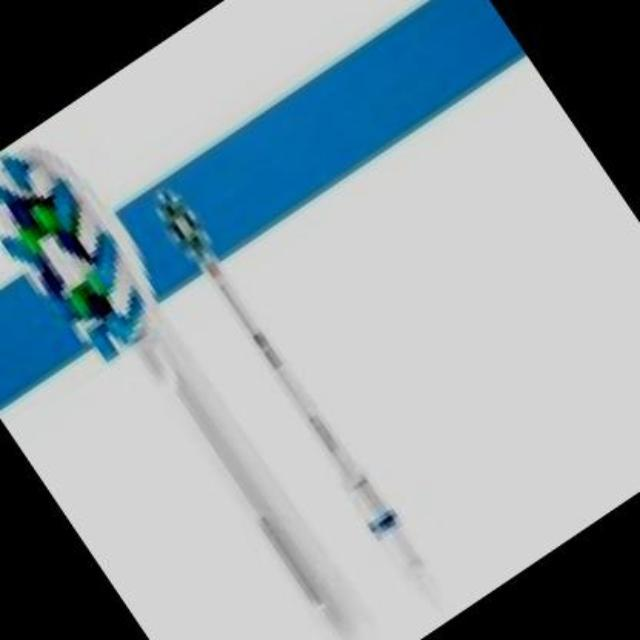toothbrush: (0, 108, 418, 638)
